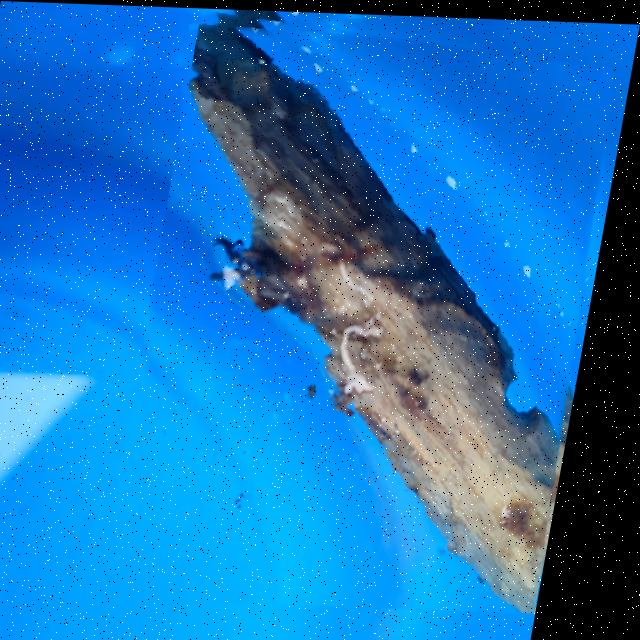wood: (118, 6, 640, 608)
